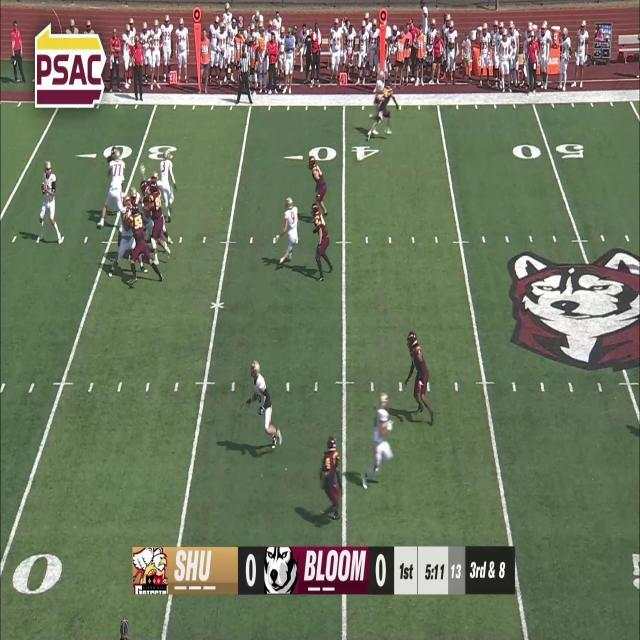football: (40, 180, 46, 194)
